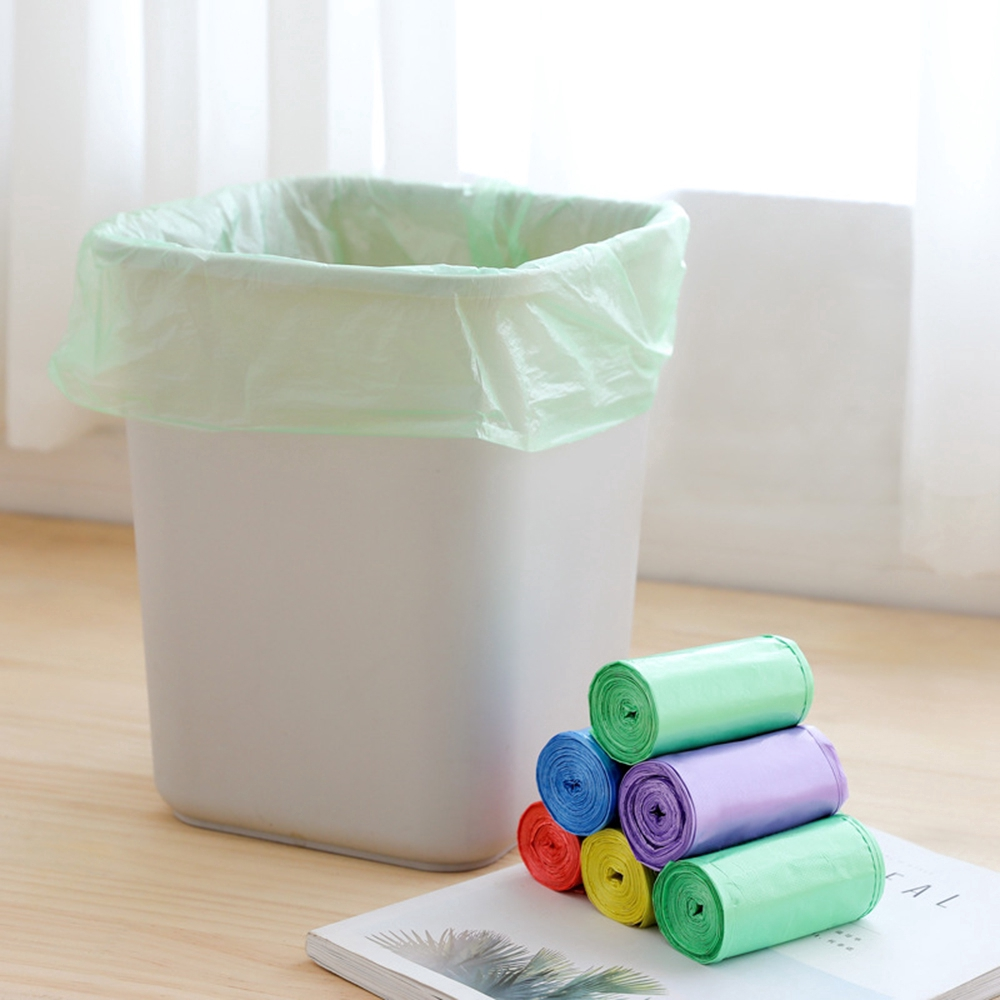plastic_bag: (580, 630, 822, 765)
